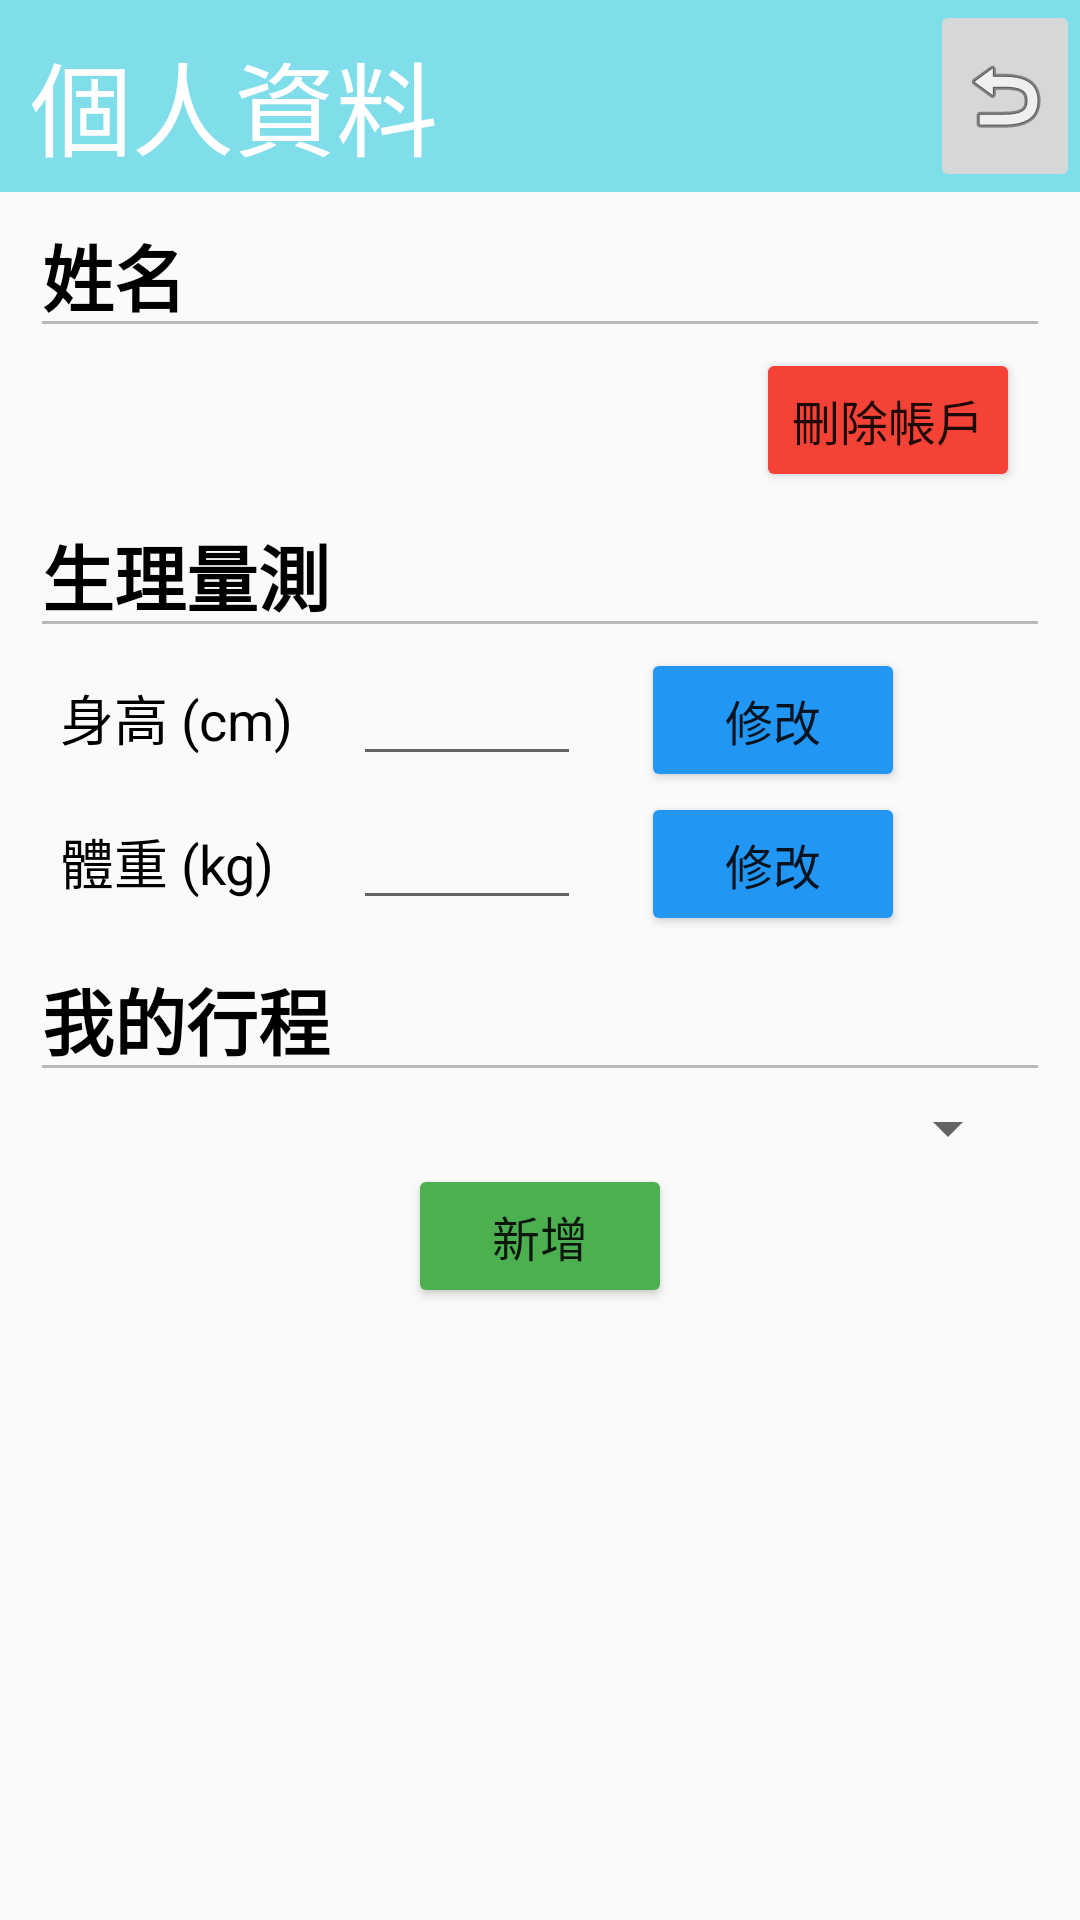

Icon click points for this 1080*1920 phone screenshot, format [x,y]:
revert: [1005,96]
